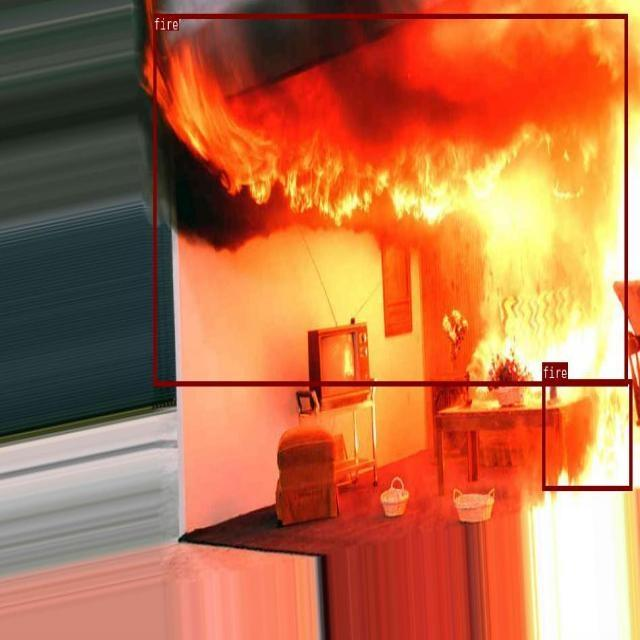fire: (153, 13, 627, 385), (542, 379, 632, 489)
